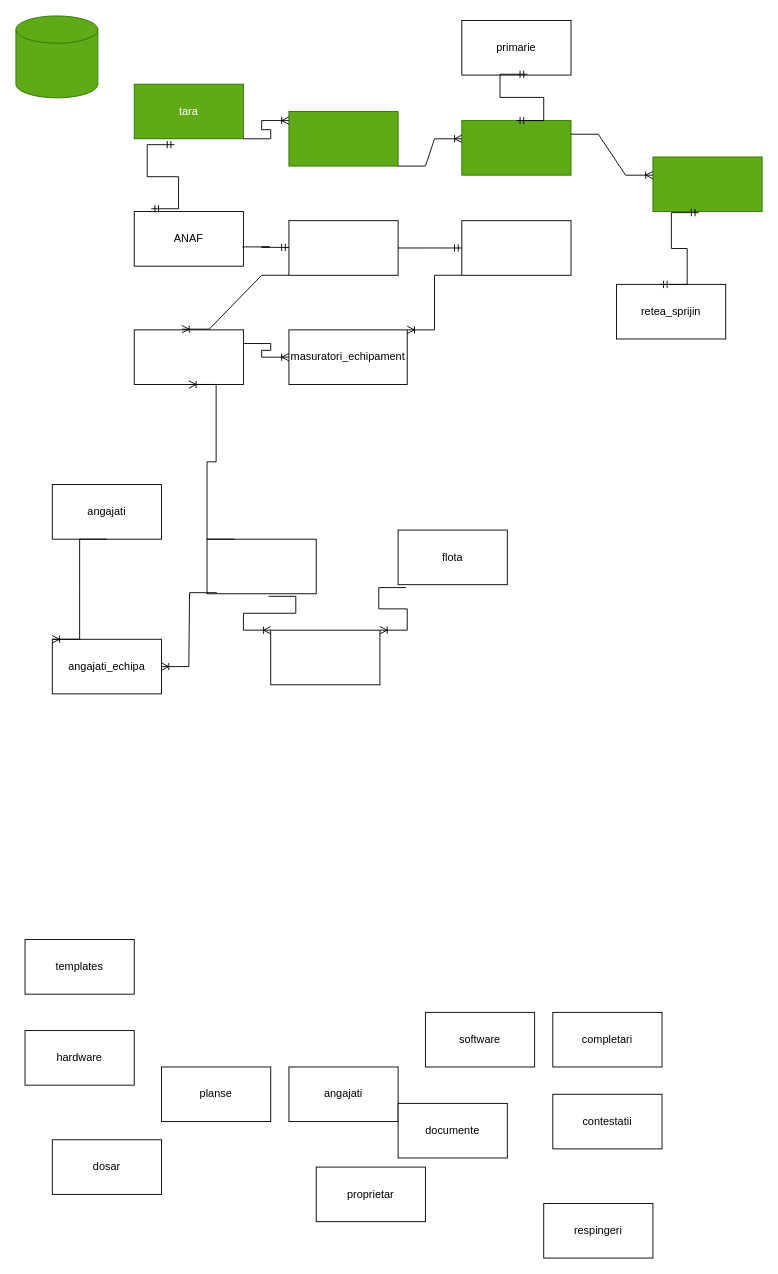
Image size: 778x1274. Some labels were removed from this diagram. Here are the shapes that lost their labels. From the top down, the box of each, then its label:
(15, 15, 98, 98): Lucrari cadastru GIS
(288, 111, 398, 166): judet
(461, 120, 571, 175): UAT
(652, 156, 762, 212): sectoare_cadastrale
(288, 220, 398, 275): companie
(461, 220, 571, 275): echipament
(133, 329, 243, 384): masuratoare
(206, 538, 316, 594): echipa
(270, 629, 380, 685): echipa_flota
